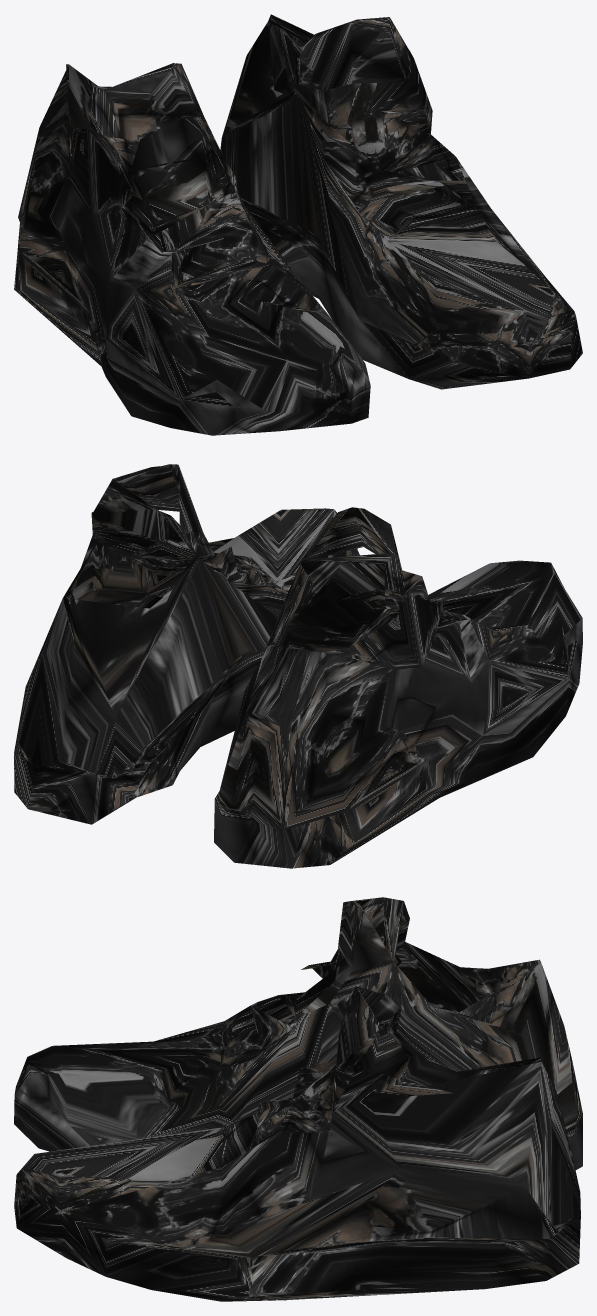
Rendered from hush.glb.
3 views of the same model, one above another, from view 1: azimuth 30°, elevation 25°; view 2: azimuth 150°, elevation 25°; view 3: azimuth 270°, elevation 25° (orthographic). The views are drawn at different scales.
Visible parts, largest first — view 1: hush; view 2: hush; view 3: hush.
Part boxes in pixels (x1,y1,x2,y2): hush: [14, 14, 582, 435]; hush: [14, 464, 582, 868]; hush: [14, 897, 582, 1301].
Size of the model in its own units: 0.7854 by 0.517 by 0.99.
1 material, 1 textured.
